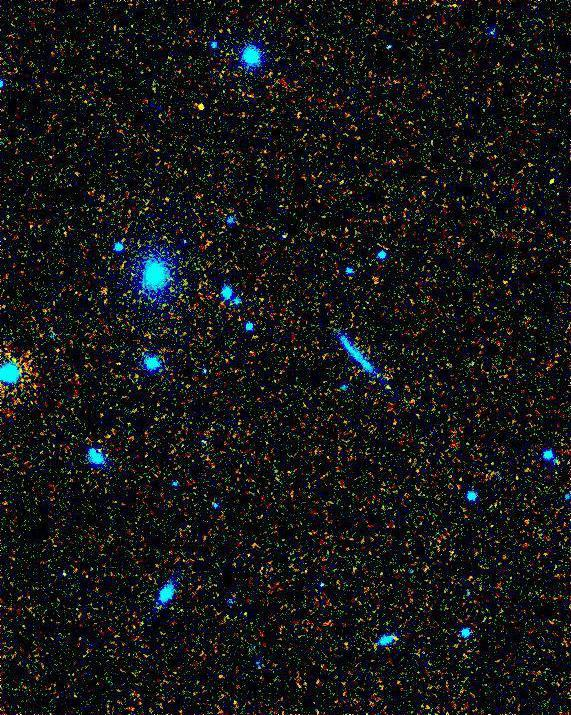star: (186, 93, 216, 123)
